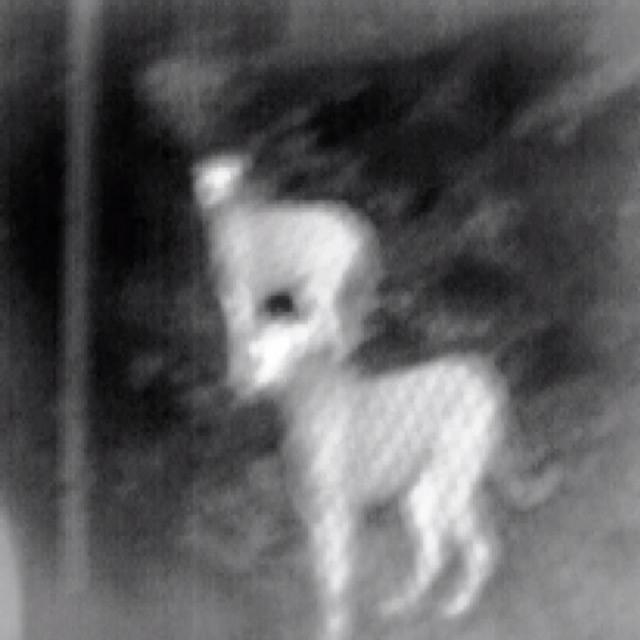cheetah: (249, 304, 510, 639), (193, 150, 378, 390)
